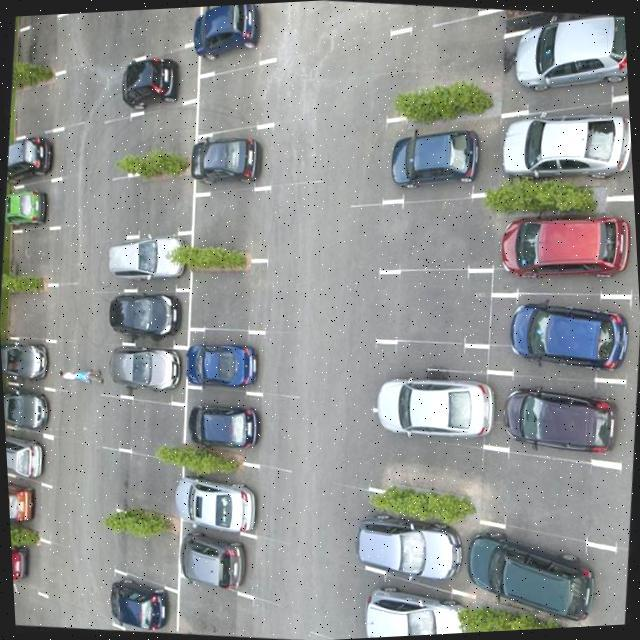space-empty: (474, 450, 620, 552), (383, 18, 510, 111), (378, 264, 497, 348), (379, 198, 496, 274), (187, 256, 276, 342), (189, 186, 284, 260), (118, 101, 200, 180), (118, 168, 200, 242), (110, 450, 187, 527), (198, 69, 278, 140), (104, 516, 178, 584), (113, 397, 190, 461), (10, 18, 76, 88), (9, 74, 78, 140), (177, 587, 255, 640), (4, 284, 67, 344), (4, 224, 64, 286), (126, 5, 208, 50), (14, 580, 54, 628), (16, 12, 78, 24)
space-occupied: (484, 193, 634, 310), (484, 283, 628, 390), (499, 100, 634, 204), (478, 531, 612, 632), (483, 368, 623, 460), (500, 19, 630, 116), (364, 402, 488, 494), (385, 115, 497, 208), (358, 502, 474, 588), (374, 338, 486, 422), (354, 576, 478, 638), (176, 453, 270, 533), (182, 385, 272, 462), (186, 326, 273, 398), (117, 34, 199, 110), (198, 2, 286, 72), (108, 233, 198, 299), (111, 283, 190, 353), (172, 531, 258, 595), (109, 343, 188, 407), (190, 134, 277, 192), (104, 576, 180, 636), (5, 124, 66, 190), (0, 334, 66, 394), (7, 179, 69, 232), (4, 382, 62, 436), (5, 428, 60, 483), (8, 476, 54, 538), (11, 532, 54, 590)
